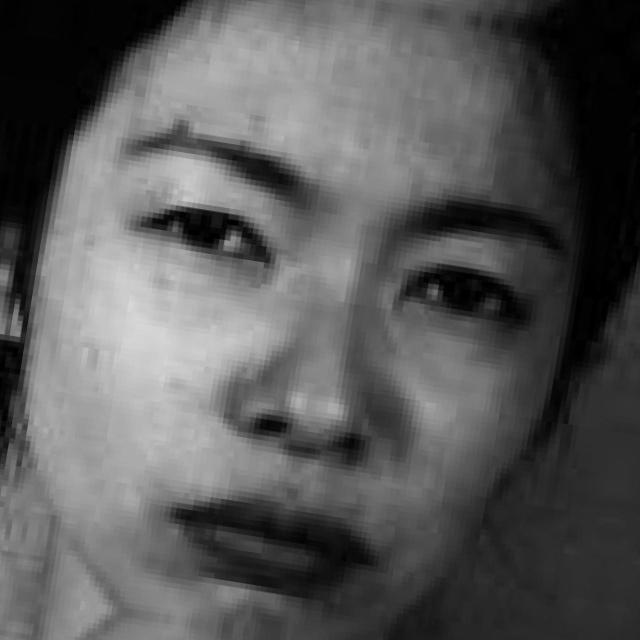disgust: (72, 84, 602, 631)
